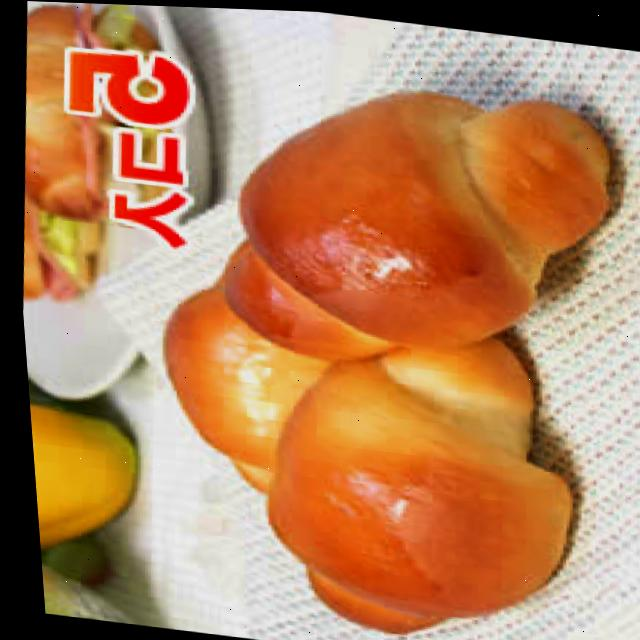面包点心: (112, 43, 640, 640)
